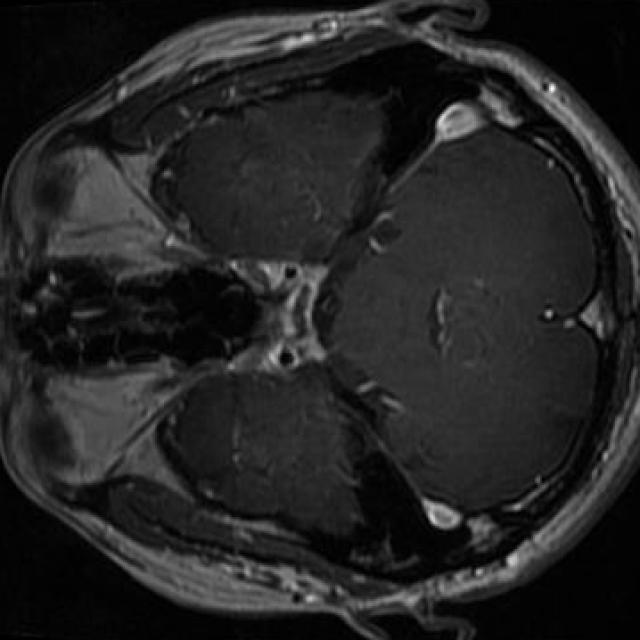glioma: (369, 210, 405, 253)
